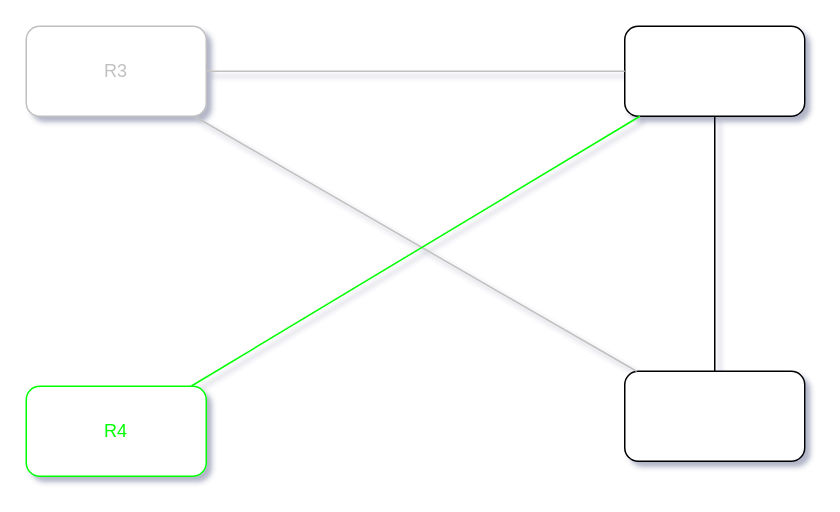
Some shapes in this 840 by 512 pixel diagram are drawn without their labels. The centre of each missing label's shape, as x and y in pixels:
R1: pixel 714 415
R2: pixel 714 70
